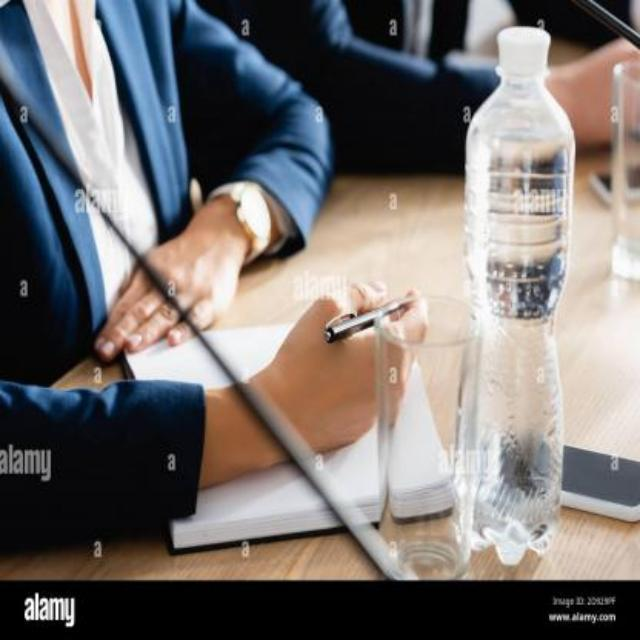bottle: (446, 11, 578, 574)
